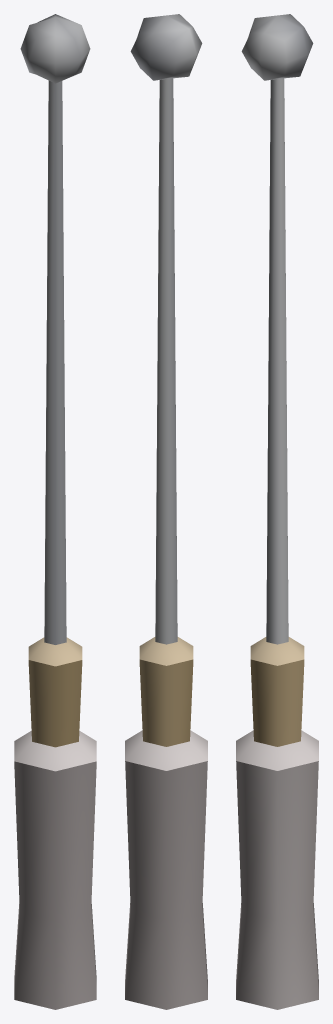
The model's file is TeamFlagPole_0.glb.
3 renders of one model, left to right at view 1: azimuth 90°, elevation 25°; view 2: azimuth 150°, elevation 25°; view 3: azimuth 330°, elevation 25°, orthographic.
Visible parts, largest first — view 1: TeamFlagPole; view 2: TeamFlagPole; view 3: TeamFlagPole.
Boxes of the visible parts, x1,y1,x2,y2 form: TeamFlagPole: (14,14,96,1009); TeamFlagPole: (125,14,207,1009); TeamFlagPole: (236,14,318,1009).
Bounding box in the file's own units: 0.2035 × 2.29 × 0.1762.
